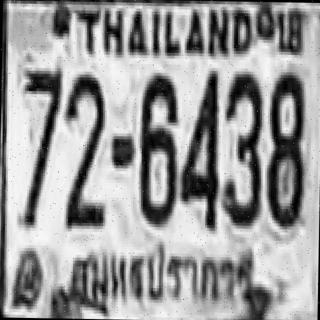N02: (64, 73, 106, 219), (63, 71, 104, 206)
N03: (221, 70, 261, 224)
N04: (178, 68, 218, 225)
N06: (137, 71, 177, 223)
N07: (18, 66, 62, 226), (22, 66, 62, 177)
N08: (265, 70, 305, 225)
P57: (65, 238, 260, 308)
